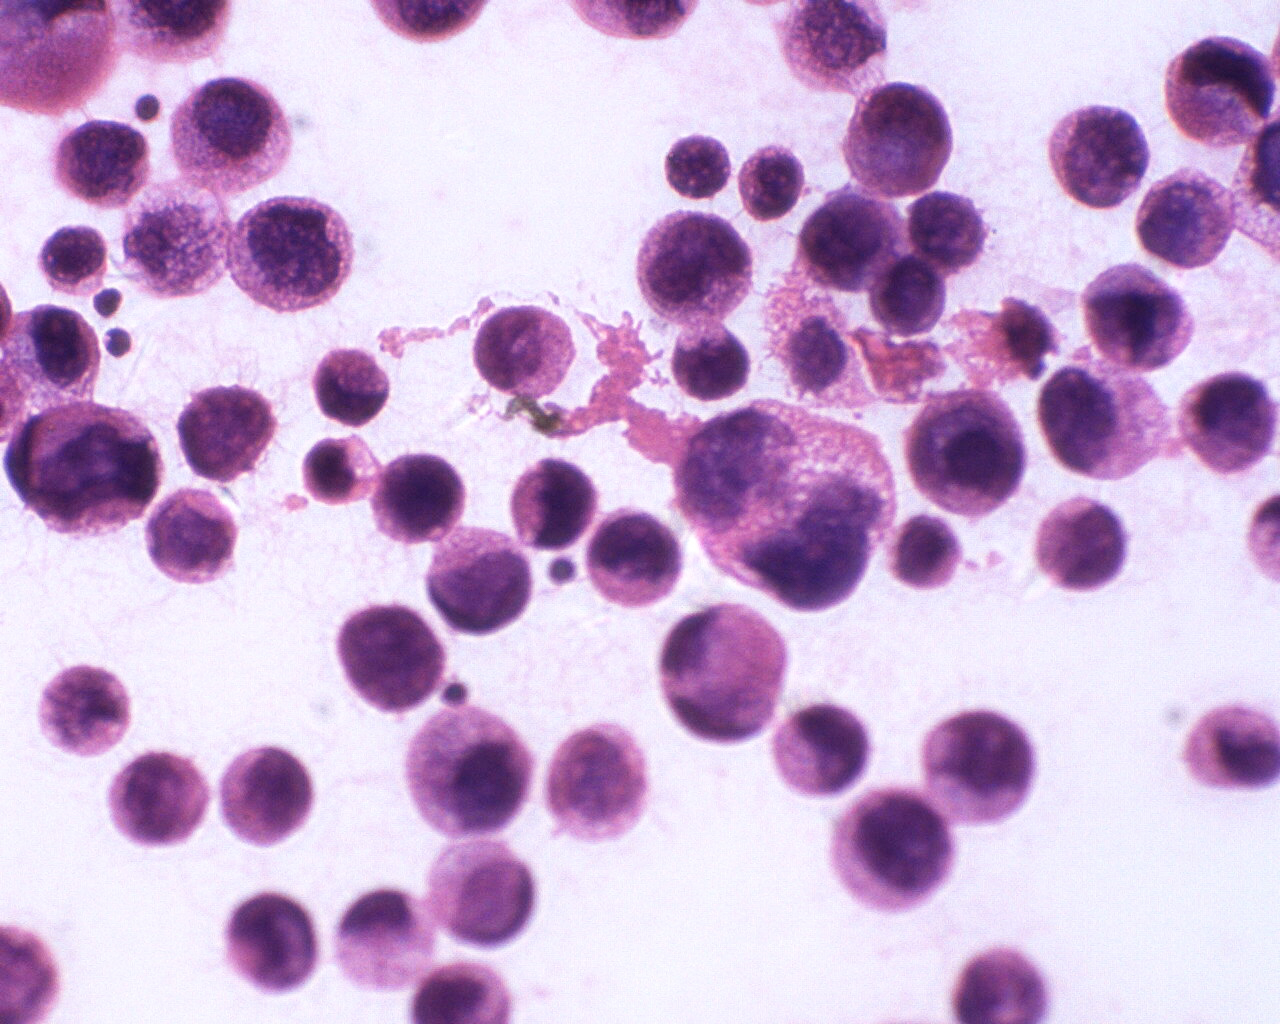ab: (822, 782, 959, 918), (222, 187, 360, 316), (170, 71, 297, 193), (629, 211, 761, 325), (1160, 29, 1279, 150), (835, 83, 960, 197), (922, 707, 1034, 830), (423, 523, 535, 638), (1084, 260, 1196, 373), (1046, 99, 1151, 212), (1178, 364, 1280, 478), (212, 744, 320, 851), (174, 379, 281, 487), (470, 303, 577, 404), (586, 505, 685, 612), (106, 750, 209, 853), (773, 698, 872, 804), (1034, 492, 1127, 599), (371, 450, 471, 548), (53, 119, 154, 214), (508, 452, 598, 554), (665, 321, 760, 403), (864, 252, 949, 341), (311, 342, 394, 430), (889, 506, 965, 591), (734, 140, 805, 226), (38, 222, 111, 303)
